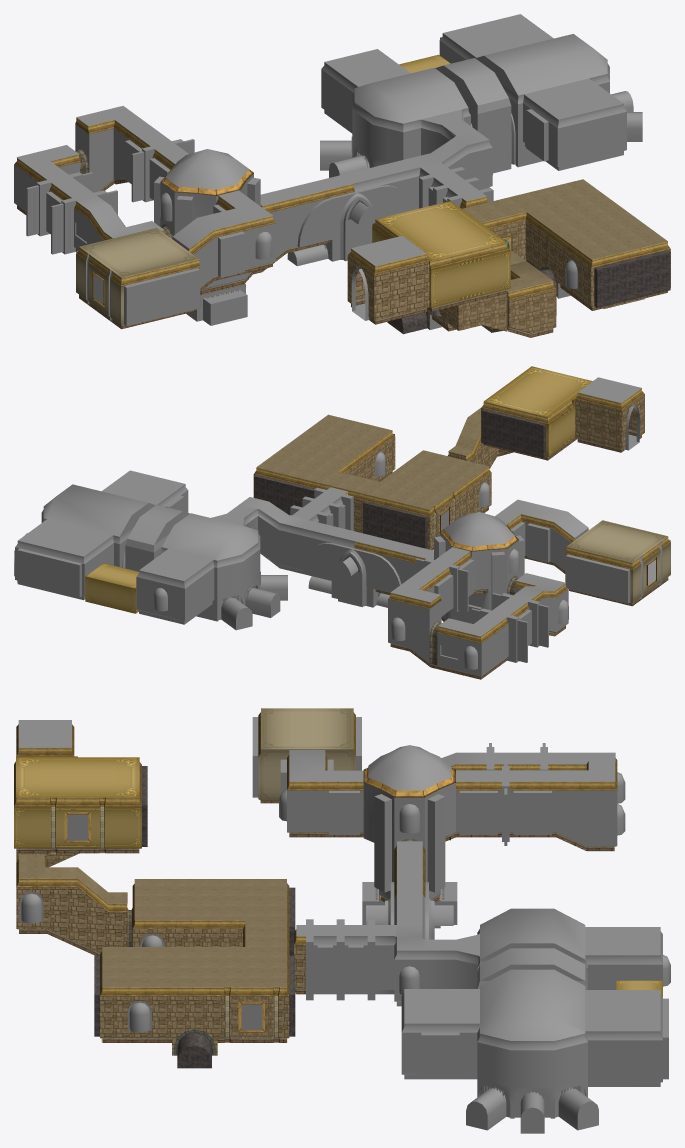
The model's file is Library_FireRoom03.FBX.
The picture shows the model from 3 angles, top to bottom: view 1: azimuth 30°, elevation 25°; view 2: azimuth 150°, elevation 25°; view 3: azimuth 270°, elevation 25°; orthographic projection. The views are drawn at different scales.
Parts seen in each view (by area): view 1: Lib05c_Concrete, Lib05b_Ceiling_BrownBrick, Lib05b_Wall_BrickDark01, Lib05b_Roof_TiledBrownClay, Lib05_Wall_BrickDark01, Lib05c_Wall_BrickDark01, Lib05_Ceiling_BrownFlat, Lib05_Wall_PaintedGold, Lib05c_Arches, Lib05_Arches, Lib05b_Arches, Lib05c_Wall_PaintedGold (+10 smaller); view 2: Lib05_Ceiling_BrownFlat, Lib05c_Wall_BrickDark01, Lib05b_Ceiling_BrownBrick, Lib05c_Concrete, Lib05b_Roof_TiledBrownClay, Lib05b_Wall_BrickDark01, Lib05_Concrete, Lib05b_Concrete, Lib05c_Arches, Lib05_Wall_BrickDark01, Lib05b_Arches, Lib05_Arches (+11 smaller); view 3: Lib05_Ceiling_BrownFlat, Lib05b_Wall_BrickDark01, Lib05_Wall_BrickDark01, Lib05b_Ceiling_BrownBrick, Lib05b_Roof_TiledBrownClay, Lib05c_Concrete, Lib05_Arches, Lib05_Wall_PaintedGold, Lib05c_Wall_BrickDark01, Lib05b_Concrete, Lib05b_Arches, Lib05c_Arches (+10 smaller).
Boxes of the visible parts, box(x1,y1,x2,y2) form: Lib05c_Concrete: box(26, 139, 377, 326); Lib05b_Ceiling_BrownBrick: box(260, 14, 623, 205); Lib05b_Wall_BrickDark01: box(321, 40, 626, 209); Lib05b_Roof_TiledBrownClay: box(354, 34, 607, 123); Lib05_Wall_BrickDark01: box(347, 206, 670, 332); Lib05c_Wall_BrickDark01: box(14, 124, 356, 321); Lib05_Ceiling_BrownFlat: box(462, 179, 667, 291); Lib05_Wall_PaintedGold: box(372, 201, 510, 307); Lib05c_Arches: box(14, 117, 367, 328); Lib05_Arches: box(348, 196, 670, 337); Lib05b_Arches: box(321, 33, 626, 197); Lib05c_Wall_PaintedGold: box(76, 228, 200, 324); Lib05_Ceiling_BrownFlat: box(256, 407, 488, 509); Lib05c_Wall_BrickDark01: box(353, 521, 588, 676); Lib05b_Ceiling_BrownBrick: box(18, 470, 433, 581); Lib05c_Concrete: box(334, 522, 670, 662); Lib05b_Roof_TiledBrownClay: box(43, 484, 258, 560); Lib05b_Wall_BrickDark01: box(15, 490, 353, 621); Lib05_Concrete: box(254, 409, 545, 548); Lib05b_Concrete: box(14, 490, 353, 630); Lib05c_Arches: box(343, 514, 670, 679); Lib05_Wall_BrickDark01: box(253, 394, 644, 549); Lib05b_Arches: box(15, 484, 354, 624); Lib05_Arches: box(254, 388, 644, 549); Lib05_Ceiling_BrownFlat: box(19, 854, 286, 987); Lib05b_Wall_BrickDark01: box(313, 898, 662, 1118); Lib05_Wall_BrickDark01: box(16, 853, 305, 1055); Lib05b_Ceiling_BrownBrick: box(306, 841, 660, 1031); Lib05b_Roof_TiledBrownClay: box(480, 908, 585, 1040); Lib05c_Concrete: box(252, 717, 551, 925); Lib05_Arches: box(14, 724, 305, 1055); Lib05_Wall_PaintedGold: box(14, 756, 141, 848); Lib05c_Wall_BrickDark01: box(287, 769, 617, 928); Lib05b_Concrete: box(306, 942, 668, 1133); Lib05b_Arches: box(313, 894, 662, 1117); Lib05c_Arches: box(258, 712, 617, 902).
Size of the model in its own units: 103 by 27.14 by 85.52.
